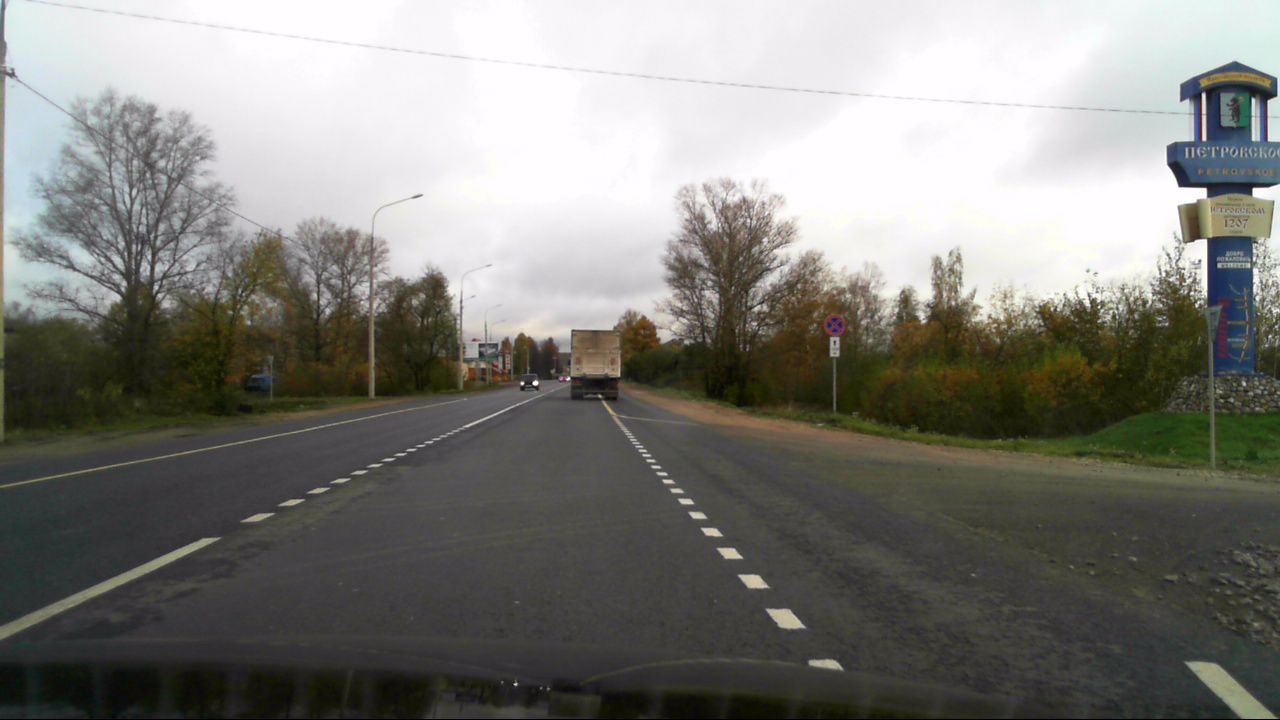No Parking: (823, 313, 845, 336)
